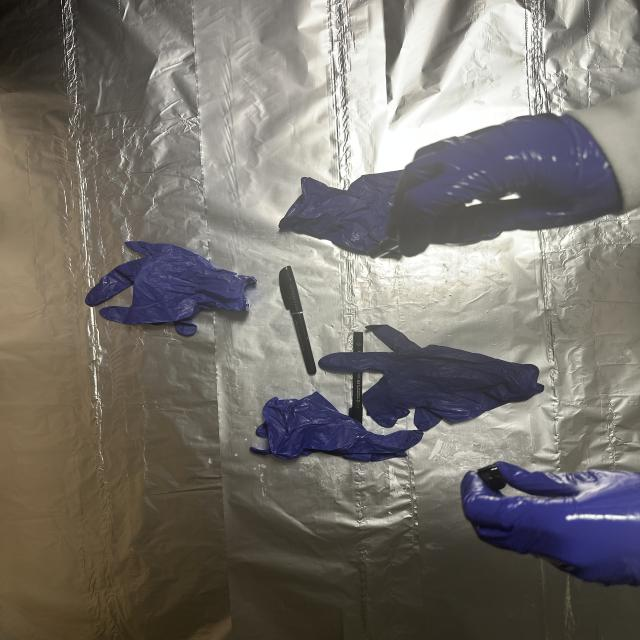gloves_contaminated: (387, 115, 621, 256), (461, 462, 640, 586)
